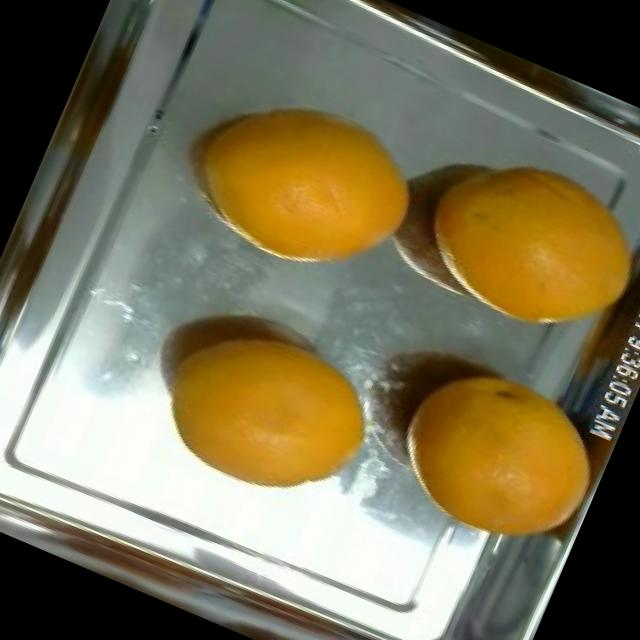Fruit: (370, 322, 632, 576)
